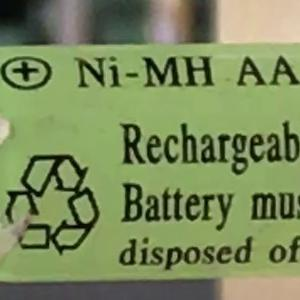keyword: (65, 47, 218, 97)
